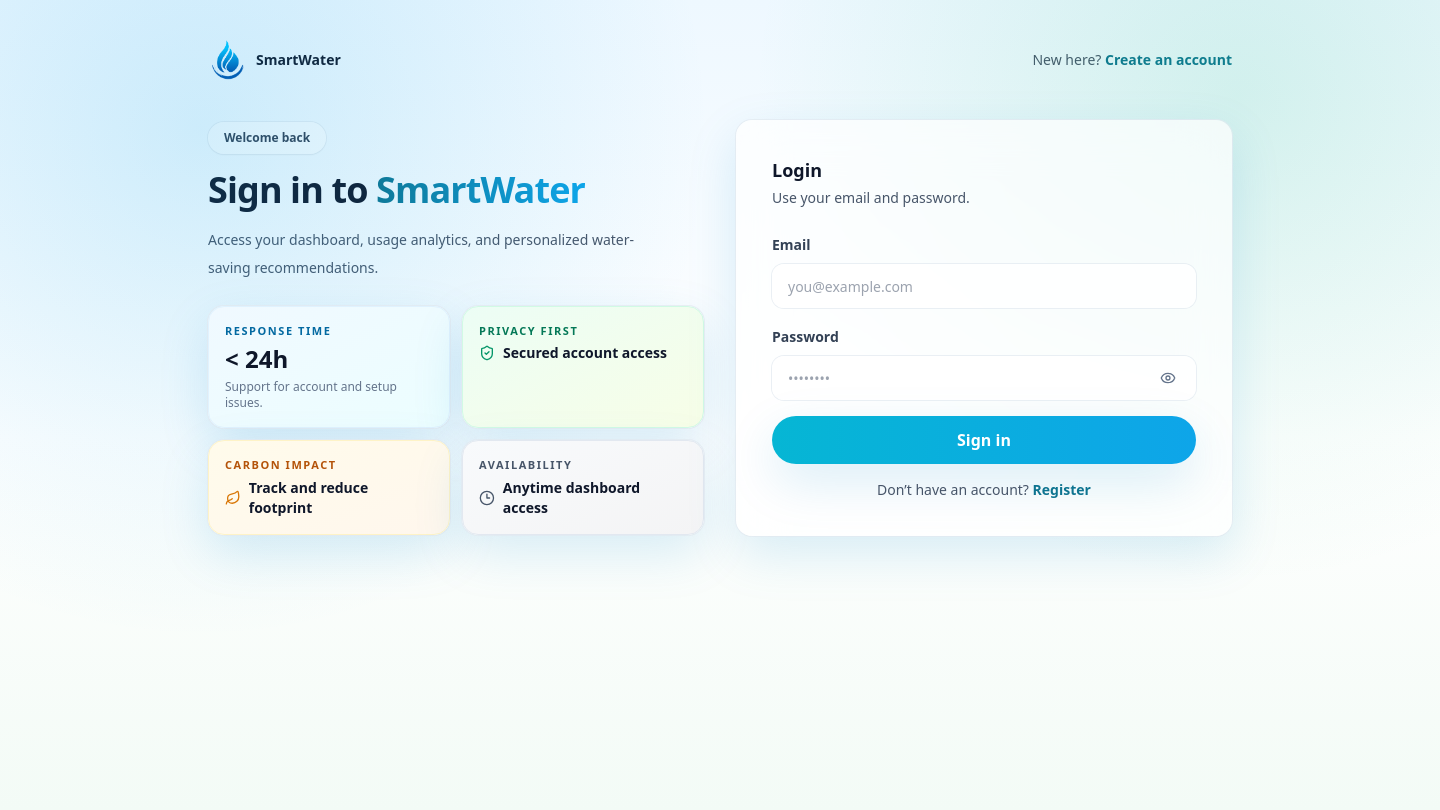
shows backend error and does not navigate when login fails
The width and height of the screenshot is (1440, 810).
Type "wrong@example.com" into the field with placeholder "you@example.com" at [984, 286], box [772,264,1196,308]
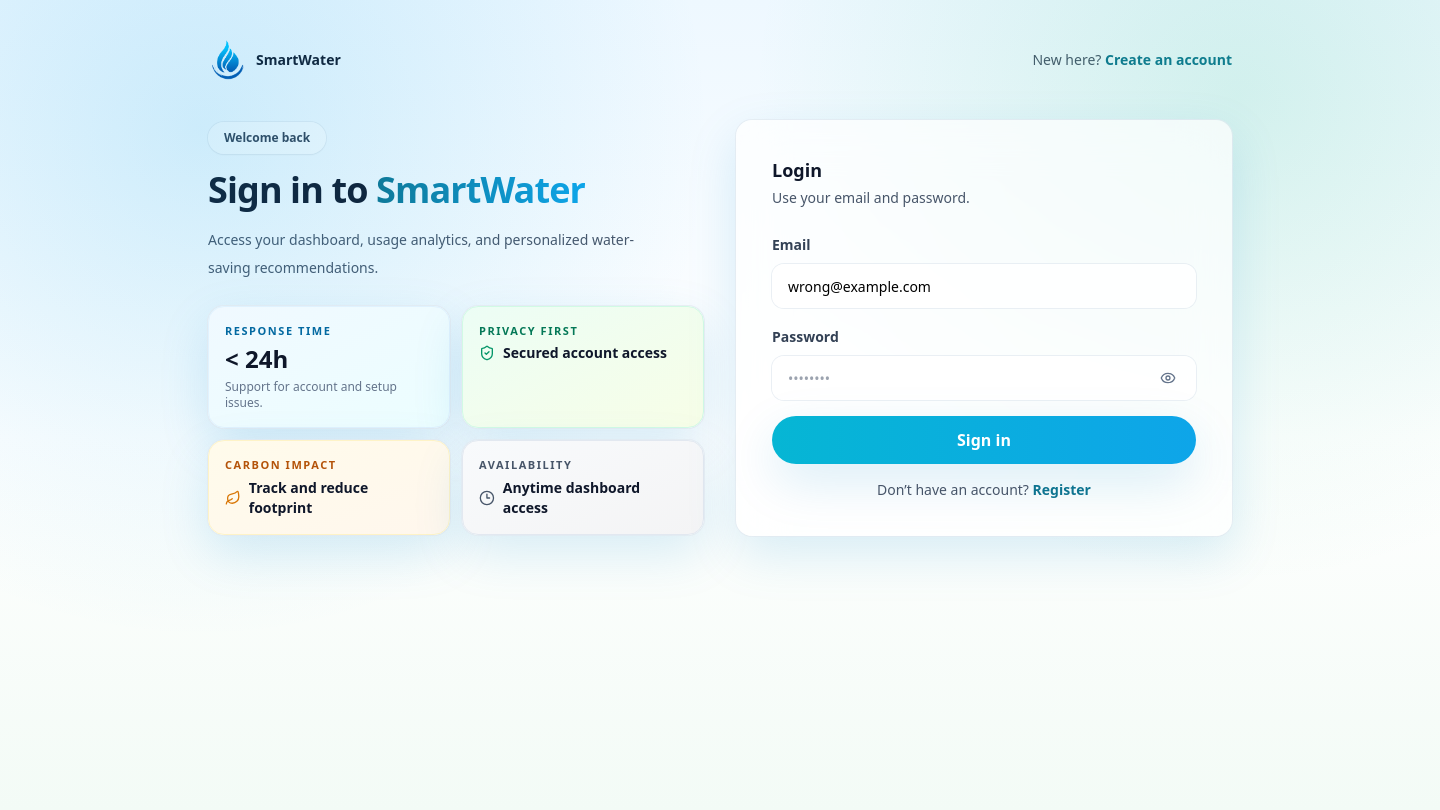
Type "wrongpass" into the password field with placeholder "••••••••" at [984, 378], box [772,356,1196,400]
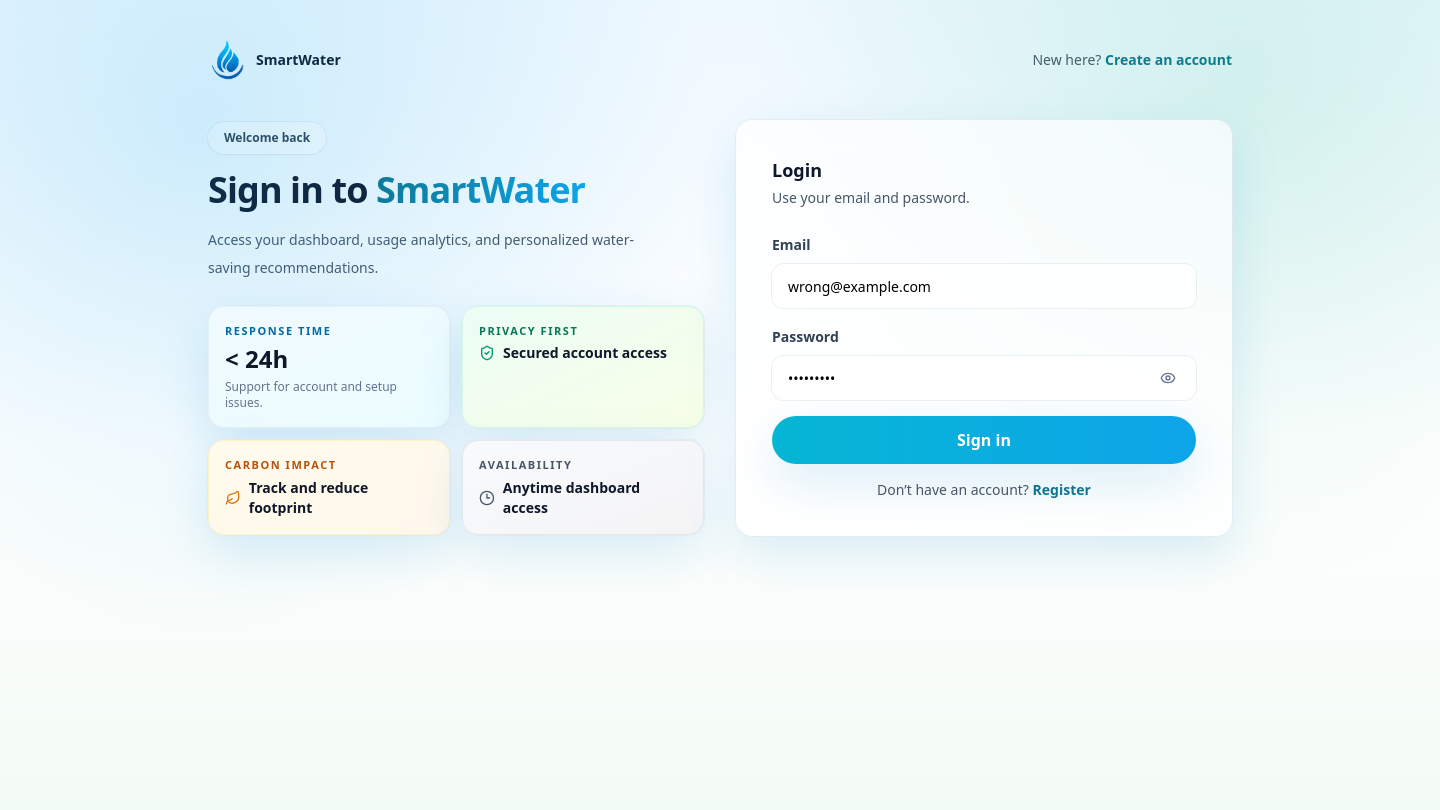
Click the button "Sign in" at [984, 440], box [772,416,1196,464]
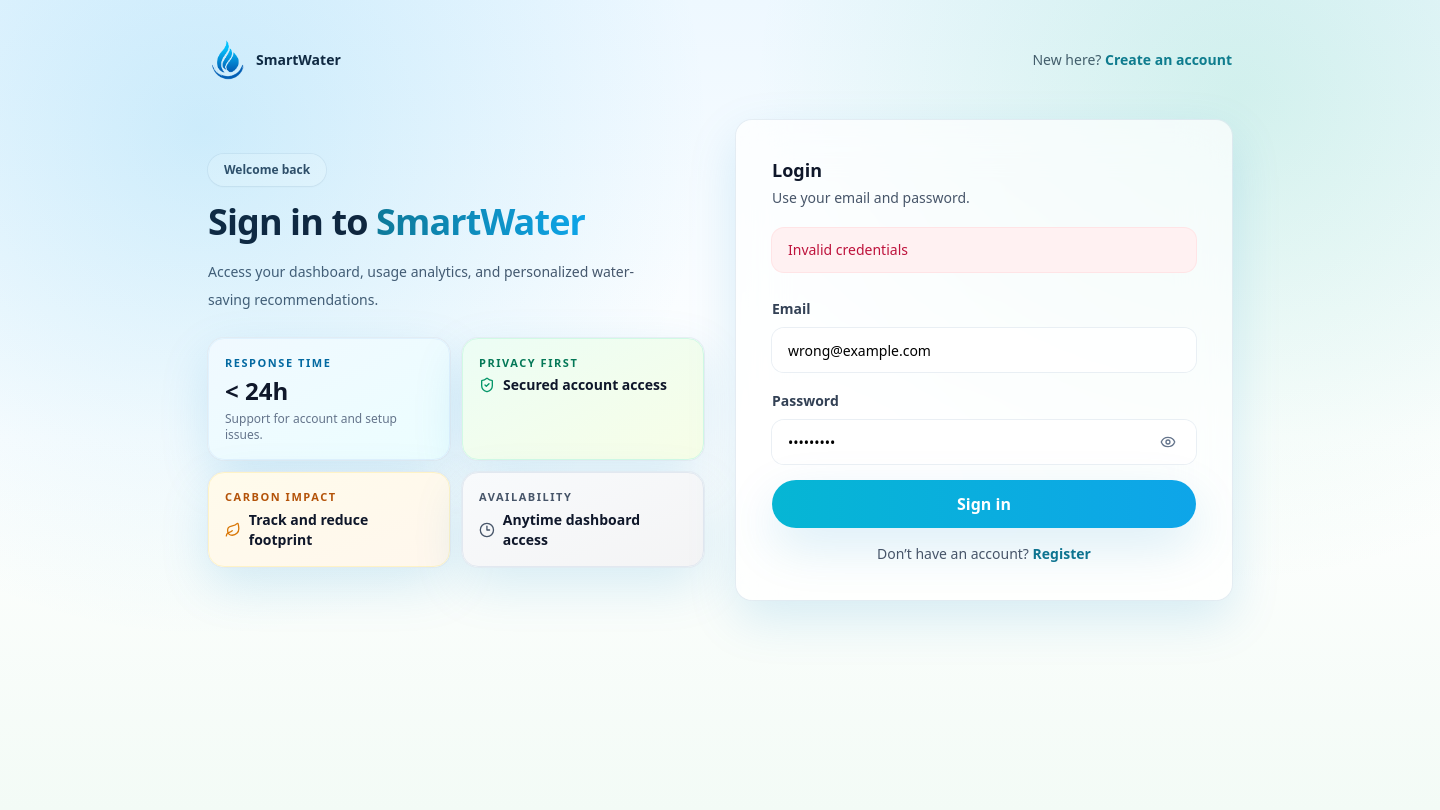
Check: the text "Invalid credentials" is shown, box [772,228,1196,272]
